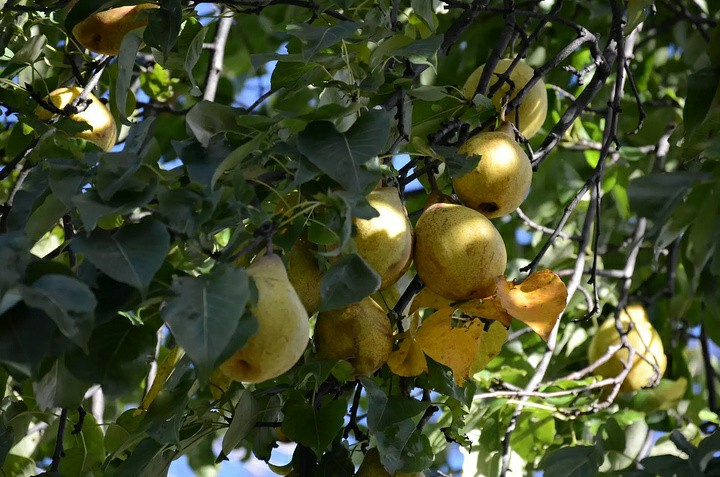pear: (207, 252, 307, 381), (311, 187, 415, 292), (415, 202, 509, 293), (446, 130, 533, 216), (587, 305, 667, 390), (464, 57, 546, 139), (313, 292, 393, 376), (33, 88, 123, 159)
